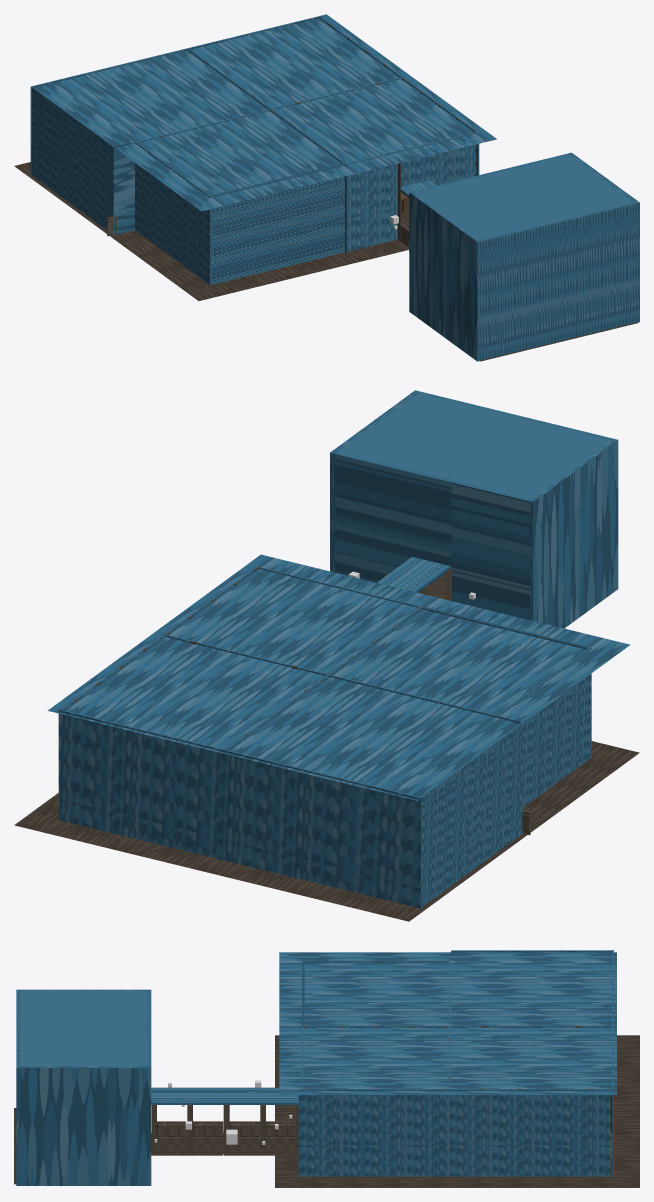
File: escenario2 2.fbx
The picture shows the model from 3 angles, top to bottom: view 1: azimuth 30°, elevation 25°; view 2: azimuth 150°, elevation 25°; view 3: azimuth 270°, elevation 25°; orthographic projection. The views are drawn at different scales.
Visible parts, largest first — view 1: Plano.025, Cubo.094, Cubo.039, Cubo.145, Plano, Cubo.041, Cubo.001, Cubo, Cubo.040; view 2: Plano.025, Cubo.094, Cubo.041, Cubo.039, Plano, Cubo.145, Cubo, Cubo.001; view 3: Plano.025, Cubo.094, Cubo.040, Plano, Cubo.145, Cubo.039, Cubo.001, Cubo.161, Cubo.162, Cubo.157, Cubo.158, Cubo.153 (+4 smaller).
Part boxes in pixels (x1=…): Plano.025: x1=35, y1=14, x2=496, y2=211; Cubo.094: x1=409, y1=152, x2=639, y2=361; Cubo.039: x1=32, y1=87, x2=344, y2=284; Cubo.145: x1=347, y1=132, x2=475, y2=251; Plano: x1=14, y1=162, x2=409, y2=300; Cubo.041: x1=30, y1=16, x2=321, y2=175; Cubo.001: x1=188, y1=49, x2=347, y2=253; Cubo: x1=136, y1=77, x2=401, y2=142; Cubo.040: x1=320, y1=17, x2=479, y2=175; Plano.025: x1=48, y1=554, x2=630, y2=800; Cubo.094: x1=330, y1=390, x2=618, y2=628; Cubo.041: x1=58, y1=709, x2=421, y2=908; Cubo.039: x1=420, y1=606, x2=591, y2=906; Plano: x1=14, y1=741, x2=639, y2=921; Cubo.145: x1=258, y1=557, x2=451, y2=607; Cubo: x1=165, y1=634, x2=496, y2=717; Cubo.001: x1=226, y1=604, x2=424, y2=750; Plano.025: x1=279, y1=952, x2=616, y2=1094; Cubo.094: x1=16, y1=989, x2=151, y2=1185; Cubo.040: x1=298, y1=1089, x2=610, y2=1176; Plano: x1=275, y1=1035, x2=639, y2=1187; Cubo.145: x1=151, y1=1027, x2=303, y2=1104; Cubo.039: x1=302, y1=950, x2=612, y2=1025; Cubo.001: x1=298, y1=1025, x2=610, y2=1027; Cubo.161: x1=193, y1=1137, x2=223, y2=1155; Cubo.162: x1=157, y1=1137, x2=187, y2=1155; Cubo.157: x1=266, y1=1137, x2=296, y2=1155; Cubo.158: x1=229, y1=1137, x2=260, y2=1155; Cubo.153: x1=193, y1=1121, x2=223, y2=1136.
Bounding box in the file's own units: 4255 × 1534 × 7344.
